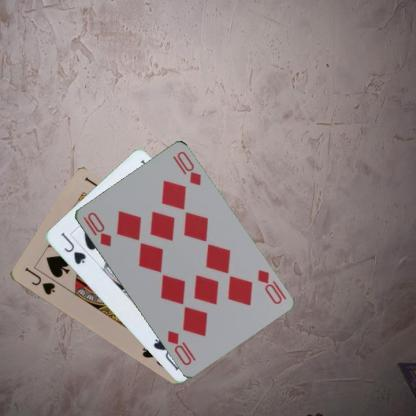10d: (254, 266, 287, 306), (80, 209, 113, 248)
Js: (57, 229, 87, 266), (22, 264, 56, 296)
